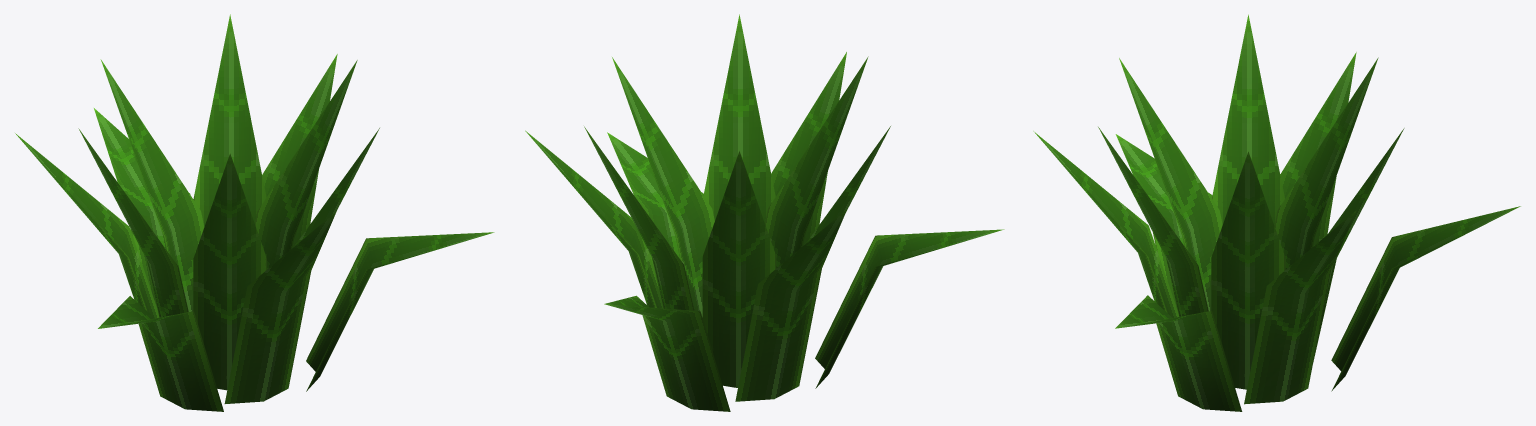
Rendered from herb.FBX.
The picture shows the model from 3 angles, left to right: view 1: azimuth 30°, elevation 25°; view 2: azimuth 150°, elevation 25°; view 3: azimuth 270°, elevation 25°; orthographic projection.
Parts seen in each view (by area): view 1: Plane026; view 2: Plane026; view 3: Plane026.
Part boxes in pixels (x1,y1,x2,y2): Plane026: [15, 14, 494, 411]; Plane026: [525, 14, 1004, 411]; Plane026: [1033, 14, 1520, 411].
Bounding box in the file's own units: 24.33 × 16.73 × 25.76.
